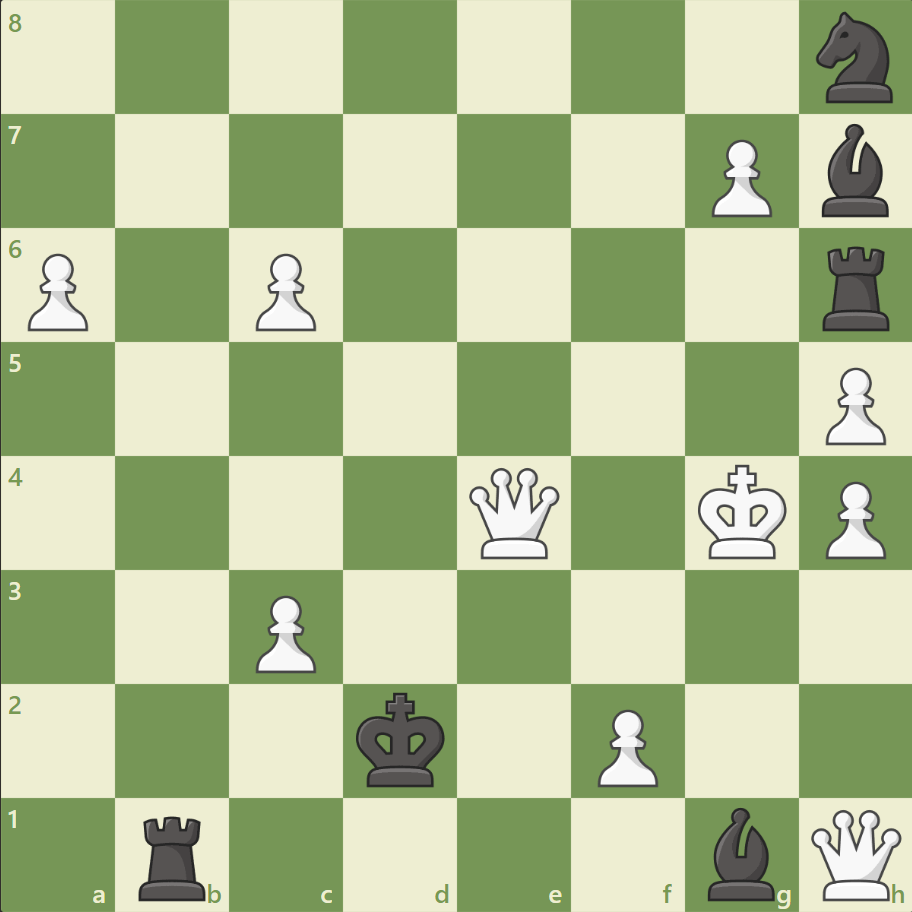K: (692, 458, 792, 566)
P: (701, 132, 776, 223), (20, 246, 95, 337), (247, 246, 322, 337), (247, 586, 322, 677), (815, 359, 889, 450), (815, 473, 889, 564), (588, 700, 662, 791)
Q: (464, 463, 563, 562), (805, 804, 904, 903)
b: (698, 801, 782, 904), (812, 120, 896, 222)
k: (351, 685, 451, 793)
n: (806, 7, 903, 110)
r: (814, 239, 897, 336), (133, 806, 215, 904)
